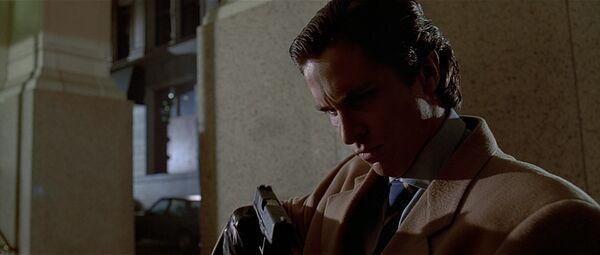Gun: (251, 184, 291, 255)
